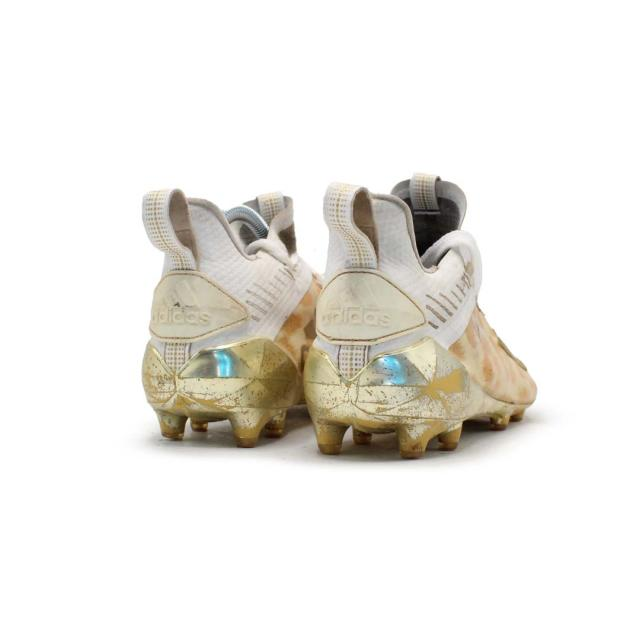heel: (305, 187, 469, 377), (141, 190, 300, 361)
midsole: (300, 337, 466, 452), (144, 337, 308, 442)
